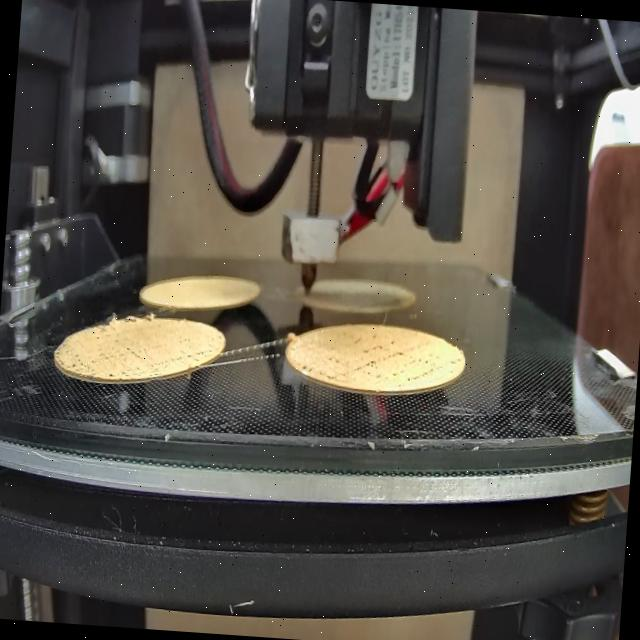under_extrusion: (355, 334, 441, 386), (70, 331, 147, 382), (166, 340, 215, 370), (299, 350, 343, 381)
